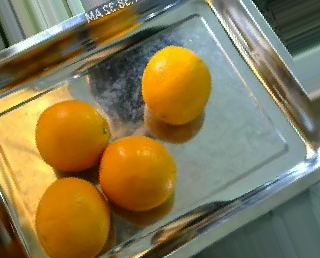Orange: (34, 174, 111, 257), (140, 43, 212, 125), (99, 136, 177, 210), (35, 101, 111, 172)
